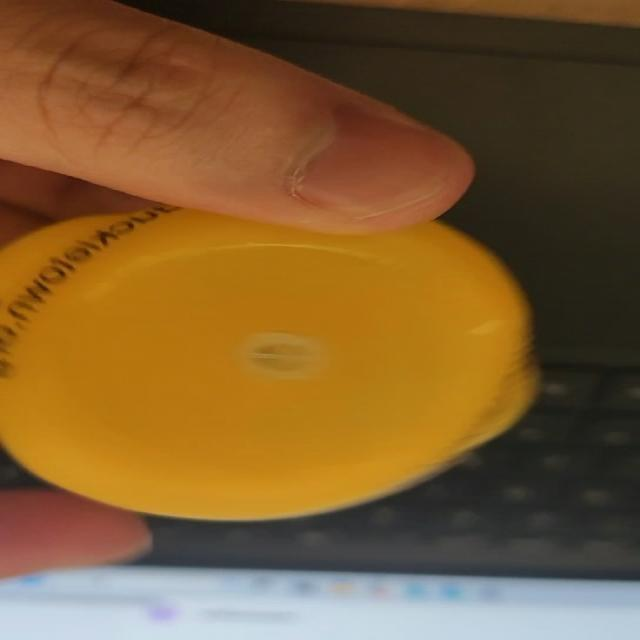rubber-duck: (0, 205, 535, 517)
